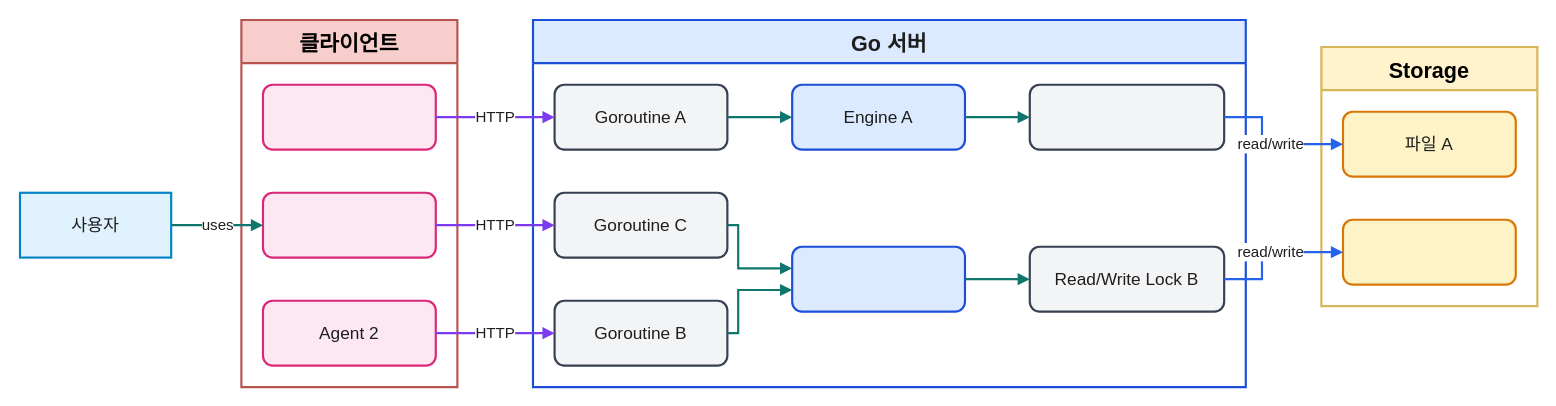
The diagram is 1556 pixels wide and 406 high, and some of its shapes have lost their labels. Here are the shapes that lost their labels. From the top down, the centre of each, then its label:
[348,116]: Agent 1
[1126,116]: Read/Write Lock A
[348,224]: CLI
[1428,251]: 파일 B
[878,278]: Engine B
